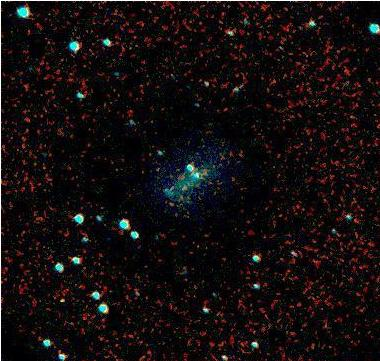star: (47, 283, 77, 313)
